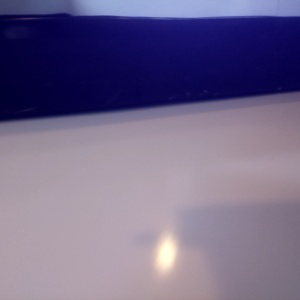zone: (1, 13, 300, 122)
